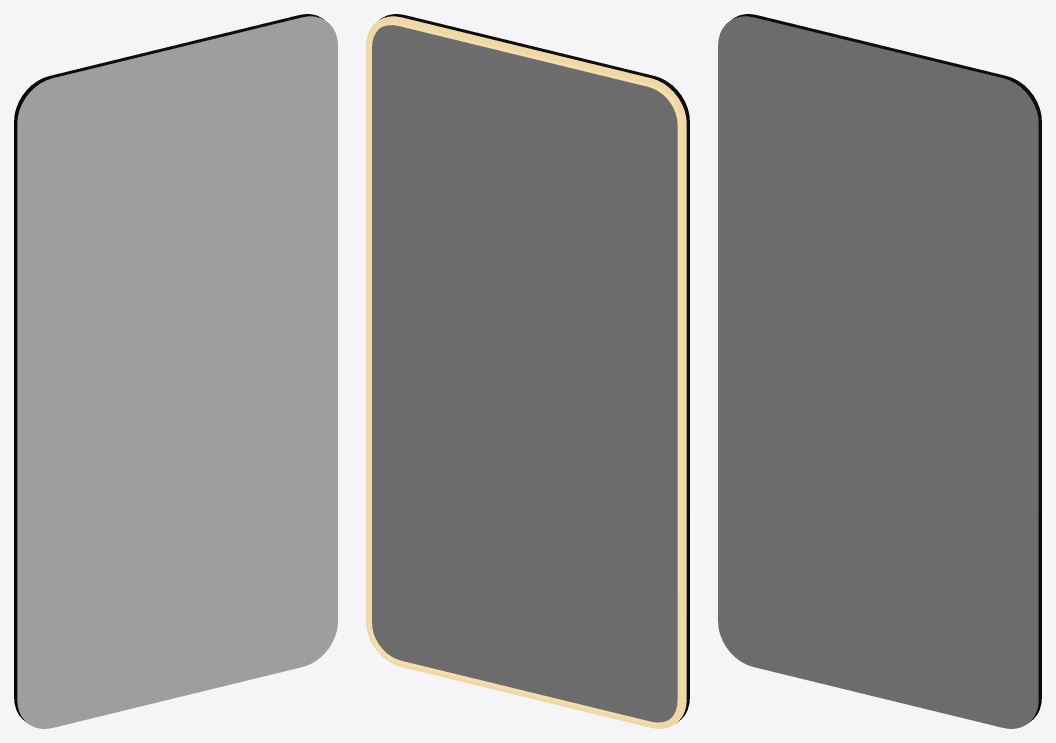
3 renders of one model, left to right at view 1: azimuth 30°, elevation 25°; view 2: azimuth 150°, elevation 25°; view 3: azimuth 330°, elevation 25°, orthographic.
Parts seen in each view (by area): view 1: Item_mirror.001; view 2: Item_mirror.001; view 3: Item_mirror.001.
Part boxes in pixels (<box>): Item_mirror.001: <box>14,14,337,728</box>; Item_mirror.001: <box>366,14,689,728</box>; Item_mirror.001: <box>718,14,1041,728</box>.
Size of the model in its own units: 0.9978 by 1.93 by 0.0343.
